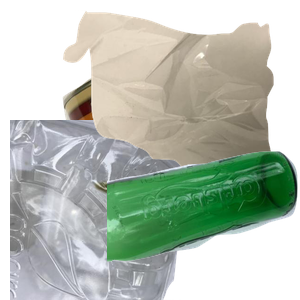glass: (107, 149, 300, 300)
metal: (60, 58, 300, 238)
plastic: (10, 120, 197, 300)
trash: (61, 10, 300, 190)
